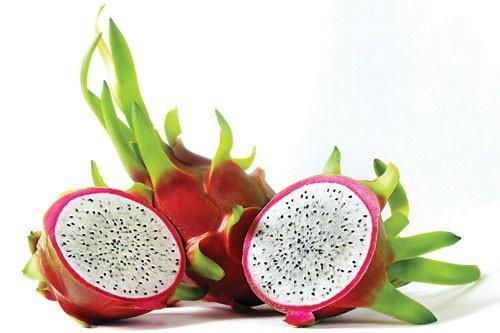dragon-fruit: (138, 148, 276, 308), (242, 173, 387, 318), (42, 186, 187, 318)
